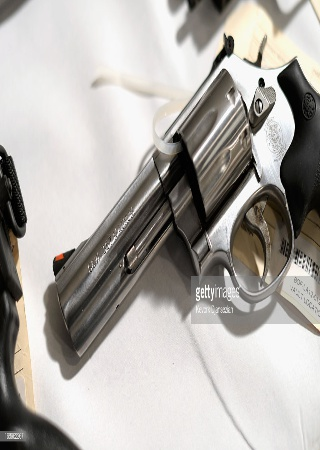handgun: (45, 28, 320, 360)
